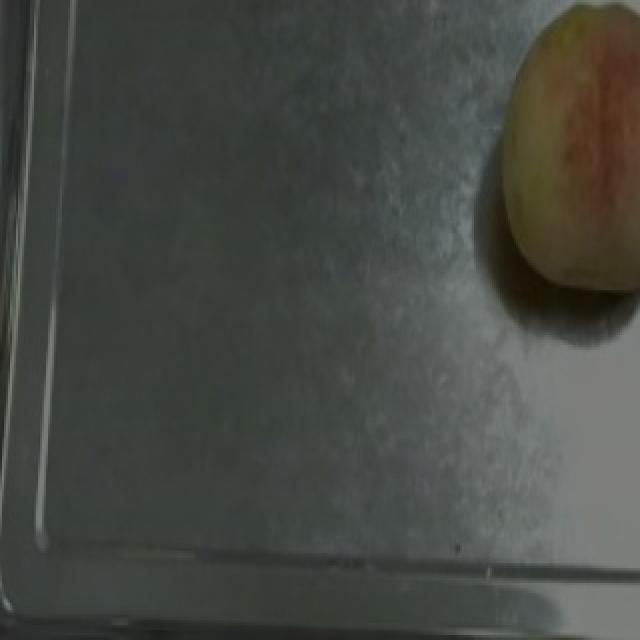Fruit: (464, 0, 640, 313)
